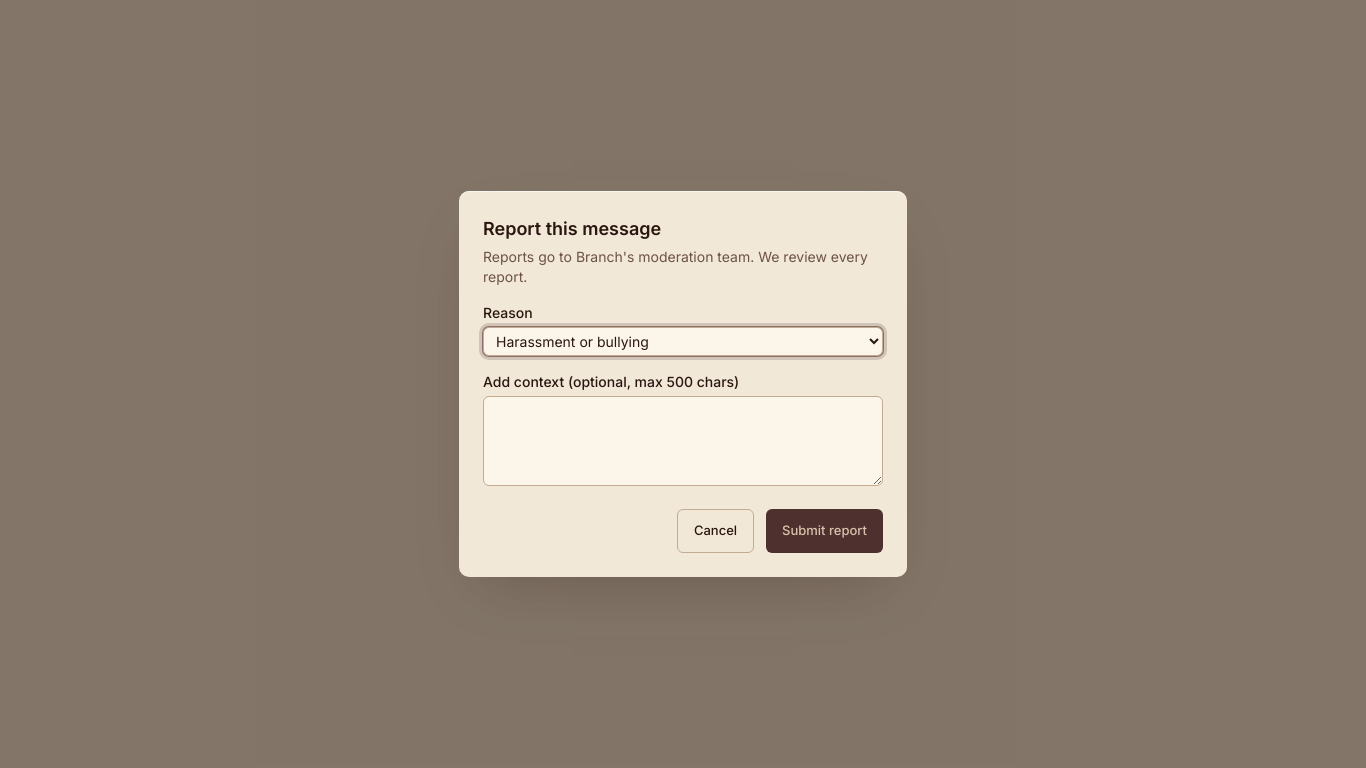
ReportDialog › surfaces a dedup acknowledgement when the API returns dedup=true
This screenshot has width=1366, height=768.
Click the button "Submit report": click(824, 531) 766,509 -> 883,553
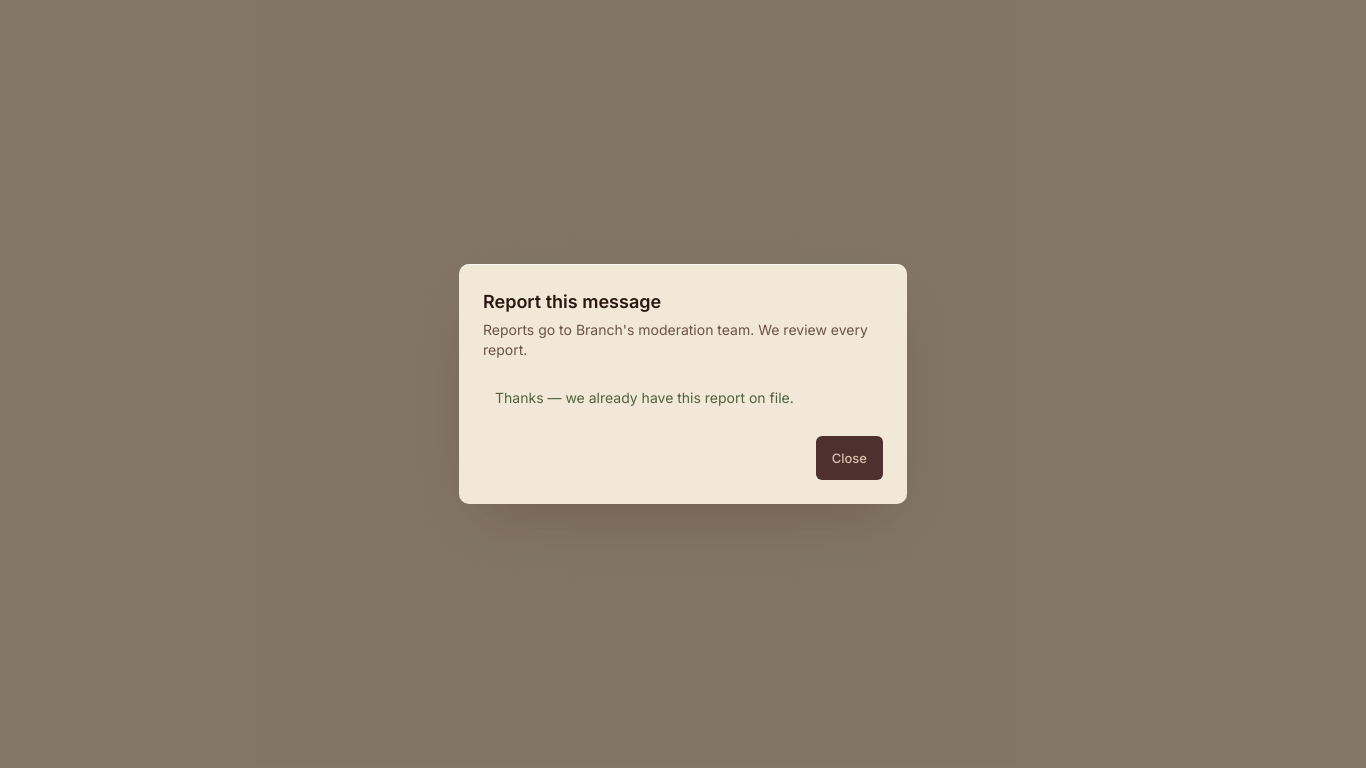
Check: the text "Thanks — we already have this report on file." is shown, box 495,389 -> 794,406
